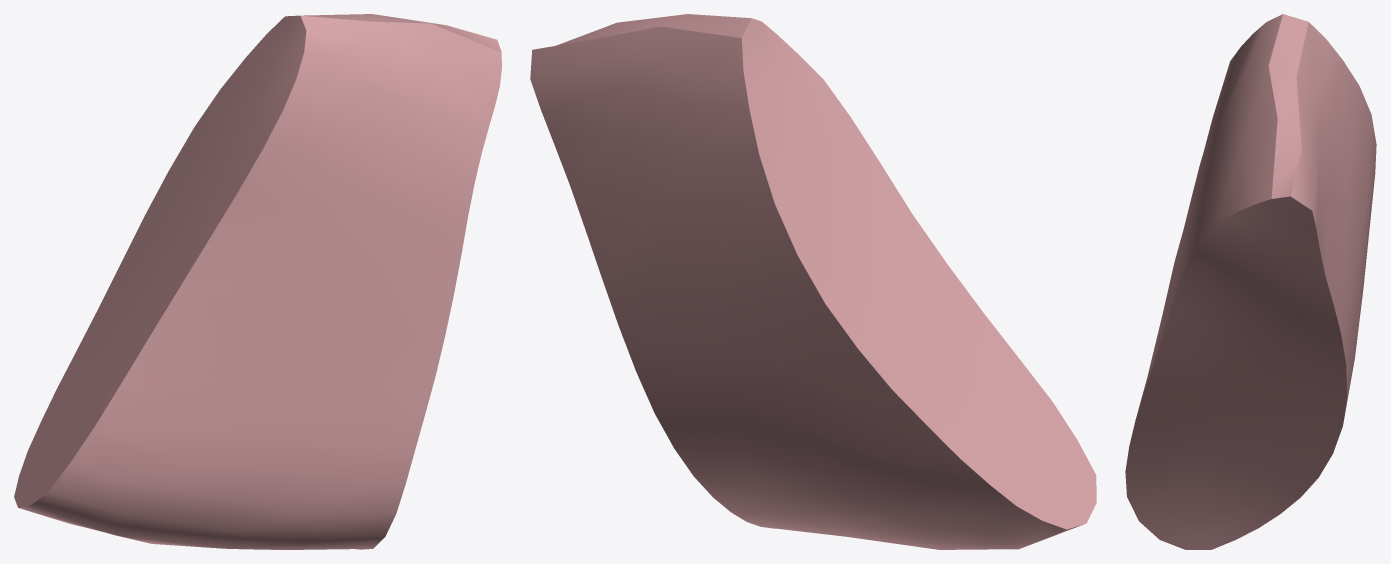
Rendered from fma39298-n_mm1943m.glb.
The picture shows the model from 3 angles, left to right: view 1: azimuth 30°, elevation 25°; view 2: azimuth 150°, elevation 25°; view 3: azimuth 270°, elevation 25°; orthographic projection. The views are drawn at different scales.
Parts seen in each view (by area): view 1: FMA39298-N_MM1943M; view 2: FMA39298-N_MM1943M; view 3: FMA39298-N_MM1943M.
Part boxes in pixels (x1,y1,x2,y2): FMA39298-N_MM1943M: (14, 14, 501, 549); FMA39298-N_MM1943M: (530, 14, 1096, 549); FMA39298-N_MM1943M: (1125, 14, 1376, 549).
Bounding box in the file's own units: 0.0145 × 0.014 × 0.00602.
